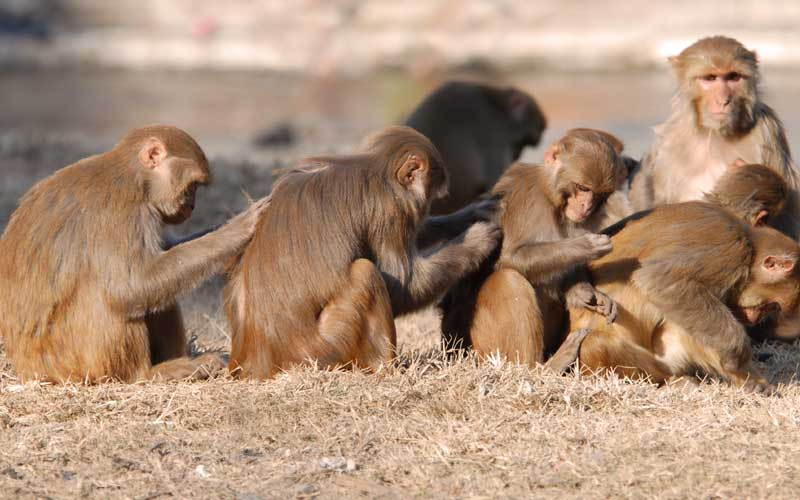monkey: (223, 119, 506, 400), (1, 122, 276, 392), (572, 156, 800, 423), (447, 103, 639, 400), (622, 27, 800, 206)
